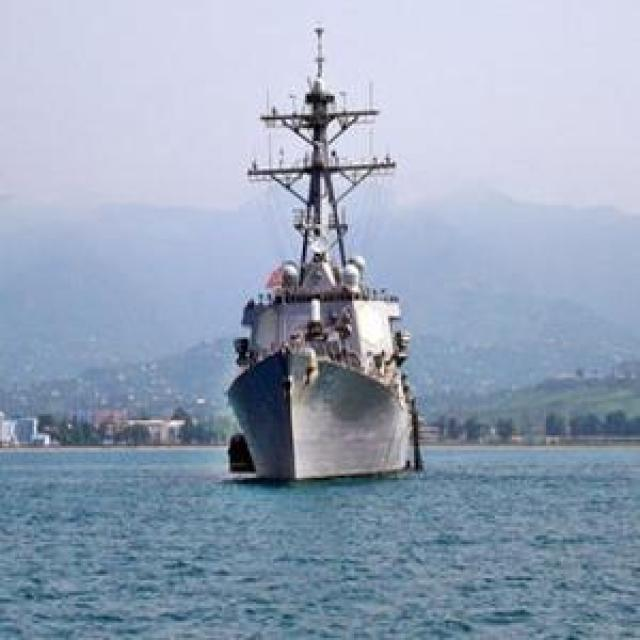navalvessels: (209, 18, 426, 483)
